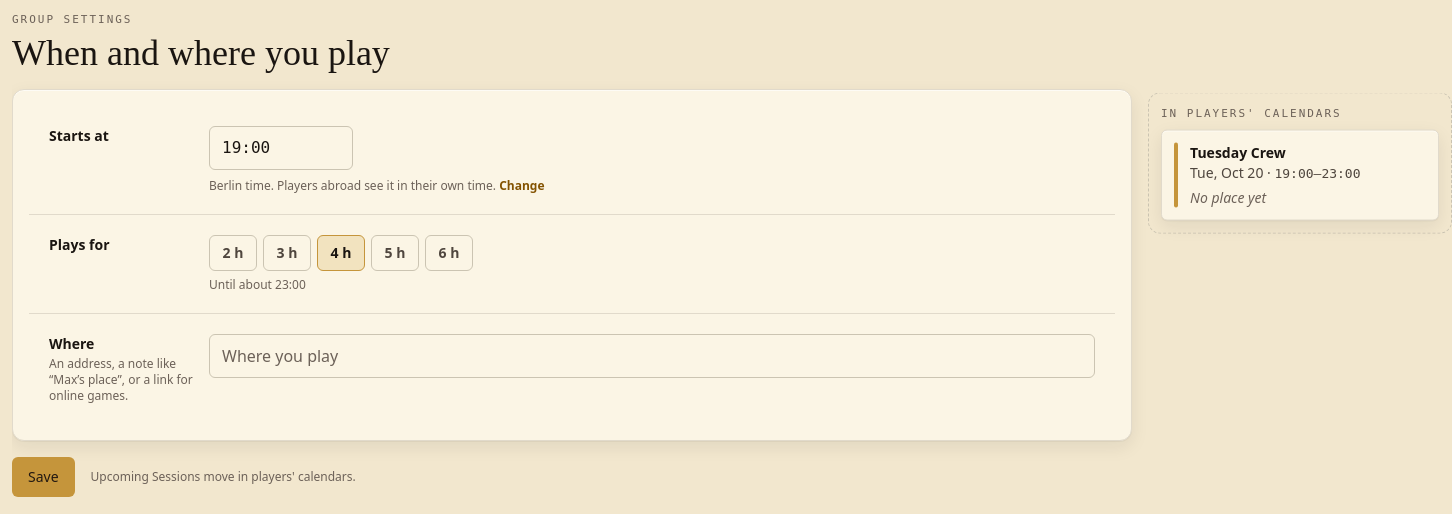
Test: TimeAndPlacePage › takes the start time as typed in 24-hour time
The image size is (1452, 514).
Type "20:30" into the field labelled "Starts at" at x=281, y=148, box [209,126,353,170]
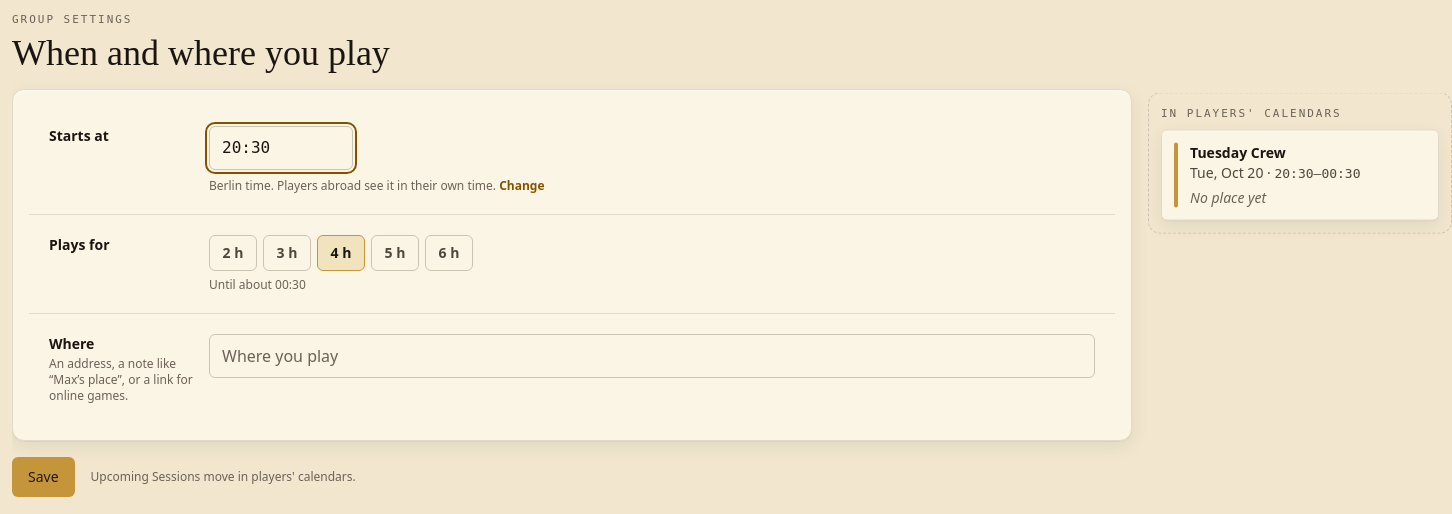
Expected: the element "In players' calendars" shows "20:30–00:30", [1274,166,1360,180]
